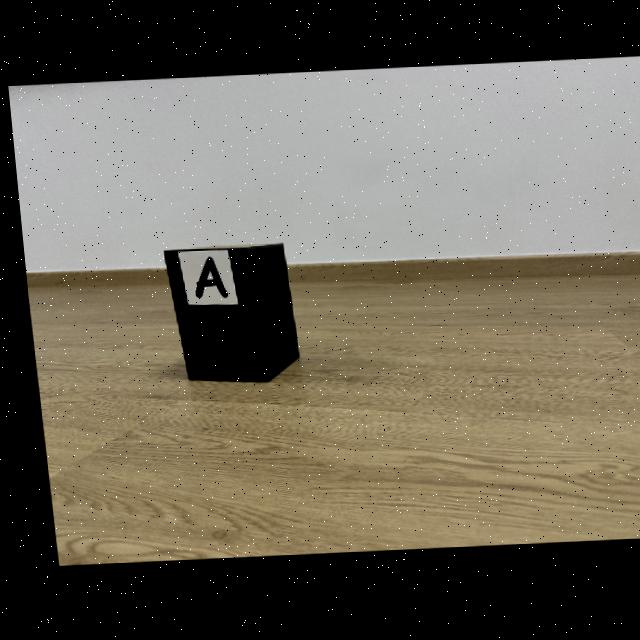A: (188, 257, 221, 299)
